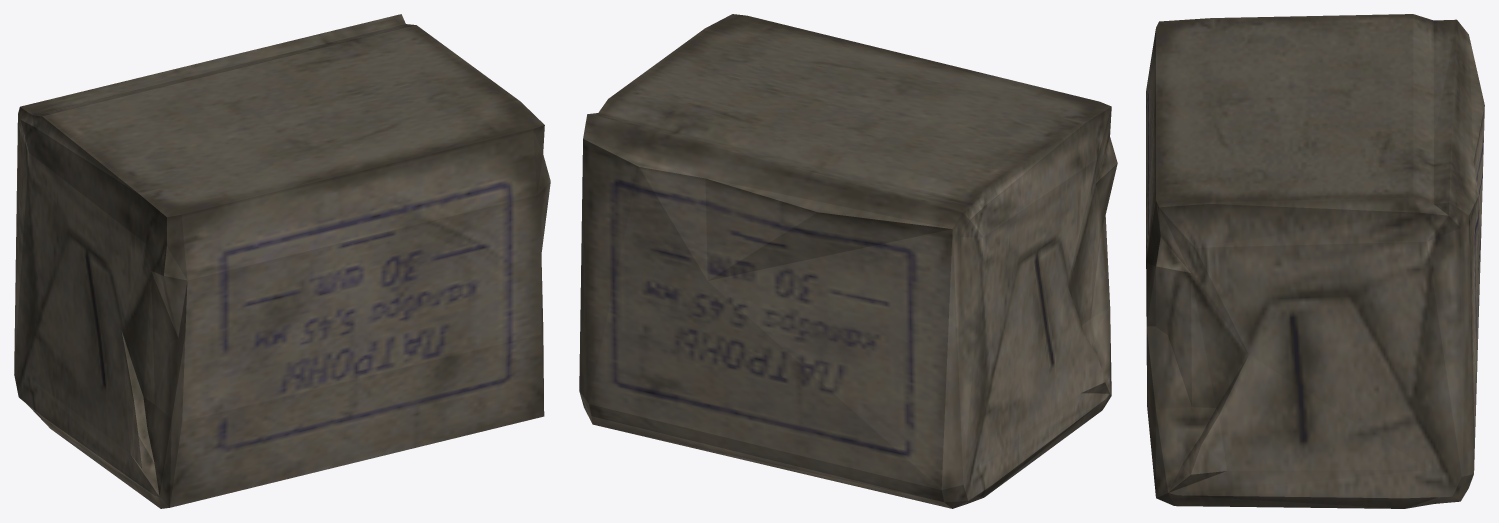
The picture shows the model from 3 angles, left to right: view 1: azimuth 30°, elevation 25°; view 2: azimuth 150°, elevation 25°; view 3: azimuth 270°, elevation 25°; orthographic projection.
Parts seen in each view (by area): view 1: TW_5737339e2459776af261abeb_PZ_Import; view 2: TW_5737339e2459776af261abeb_PZ_Import; view 3: TW_5737339e2459776af261abeb_PZ_Import.
Part boxes in pixels (<box>): TW_5737339e2459776af261abeb_PZ_Import: <box>14,14,550,508</box>; TW_5737339e2459776af261abeb_PZ_Import: <box>579,14,1117,508</box>; TW_5737339e2459776af261abeb_PZ_Import: <box>1146,14,1484,508</box>.
Bounding box in the file's own units: 0.0485 × 0.0356 × 0.0363.
Materials: 1 (1 with a texture image).
